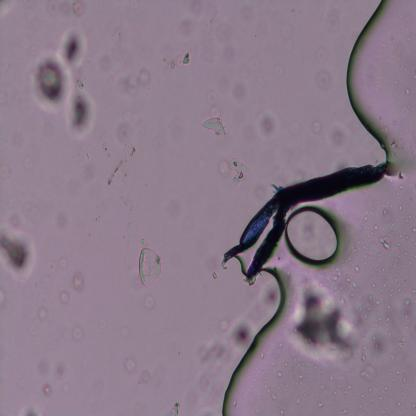Air bubble: (344, 0, 416, 176), (219, 268, 300, 416), (285, 206, 346, 269)
Background material: (32, 29, 94, 137), (298, 279, 359, 362), (0, 228, 36, 282), (214, 152, 254, 183), (137, 244, 162, 287), (360, 332, 390, 364), (109, 153, 135, 185), (116, 68, 151, 90), (232, 319, 256, 351), (48, 200, 72, 232), (202, 113, 227, 139), (198, 343, 233, 361), (328, 124, 350, 152), (258, 110, 276, 140), (232, 77, 252, 104), (34, 350, 50, 377), (2, 212, 25, 230), (116, 121, 132, 146), (0, 0, 20, 19), (316, 70, 332, 93), (308, 116, 326, 136), (265, 282, 278, 309), (378, 230, 392, 254), (211, 315, 230, 332), (360, 365, 379, 382), (139, 293, 157, 308), (52, 360, 65, 380), (53, 254, 70, 269), (70, 1, 85, 18), (58, 289, 72, 307), (72, 324, 86, 342), (36, 306, 49, 324), (166, 402, 181, 416), (74, 275, 84, 293), (41, 382, 52, 398), (21, 404, 36, 415), (140, 369, 150, 385), (346, 276, 357, 289), (126, 358, 136, 372), (182, 52, 192, 66), (206, 267, 216, 281), (402, 296, 412, 306), (294, 396, 303, 407), (316, 397, 324, 409), (276, 366, 284, 378), (122, 221, 131, 231), (330, 272, 338, 283), (334, 265, 342, 275), (397, 341, 407, 349), (366, 384, 373, 394), (328, 373, 334, 384), (372, 320, 380, 328), (126, 204, 134, 212), (271, 392, 277, 402), (390, 351, 396, 361), (340, 408, 347, 416), (394, 368, 401, 376), (382, 209, 389, 217), (338, 297, 346, 304), (354, 266, 361, 274), (361, 354, 368, 362), (397, 201, 402, 212), (384, 317, 391, 324), (366, 248, 372, 256), (398, 183, 404, 191), (366, 304, 372, 312), (277, 340, 283, 348), (362, 215, 368, 222), (386, 302, 391, 310), (402, 251, 410, 256), (339, 378, 344, 386), (390, 288, 394, 297), (406, 212, 412, 218), (410, 288, 416, 294), (298, 376, 304, 382), (367, 265, 372, 272), (404, 274, 408, 282), (361, 335, 365, 343), (347, 384, 352, 390), (402, 230, 407, 236), (398, 172, 403, 178), (362, 314, 367, 320), (394, 191, 400, 196), (396, 400, 401, 406), (350, 290, 354, 297), (382, 283, 387, 288), (394, 258, 399, 263), (403, 218, 408, 223), (374, 225, 379, 230), (411, 403, 416, 408), (403, 263, 408, 268), (402, 377, 406, 383), (368, 294, 372, 300), (382, 268, 386, 274), (396, 241, 400, 247), (384, 384, 388, 390), (404, 408, 408, 414), (370, 211, 374, 217), (372, 282, 376, 288), (334, 389, 338, 395), (364, 255, 368, 260), (394, 278, 398, 283), (395, 269, 399, 274), (376, 301, 380, 306), (398, 234, 402, 239), (370, 256, 374, 261), (358, 404, 362, 409), (392, 272, 395, 278), (344, 390, 347, 396), (363, 244, 366, 250), (412, 227, 415, 233), (397, 288, 401, 292), (390, 393, 394, 397), (362, 392, 364, 400), (379, 396, 383, 400), (401, 392, 405, 396), (392, 224, 396, 228), (388, 367, 391, 372), (385, 376, 388, 381), (413, 254, 416, 259), (372, 206, 375, 210), (371, 232, 375, 235), (405, 236, 409, 239), (398, 282, 401, 286), (382, 410, 385, 414), (392, 378, 395, 382), (393, 265, 396, 268)
Cotton: (222, 168, 392, 289)
